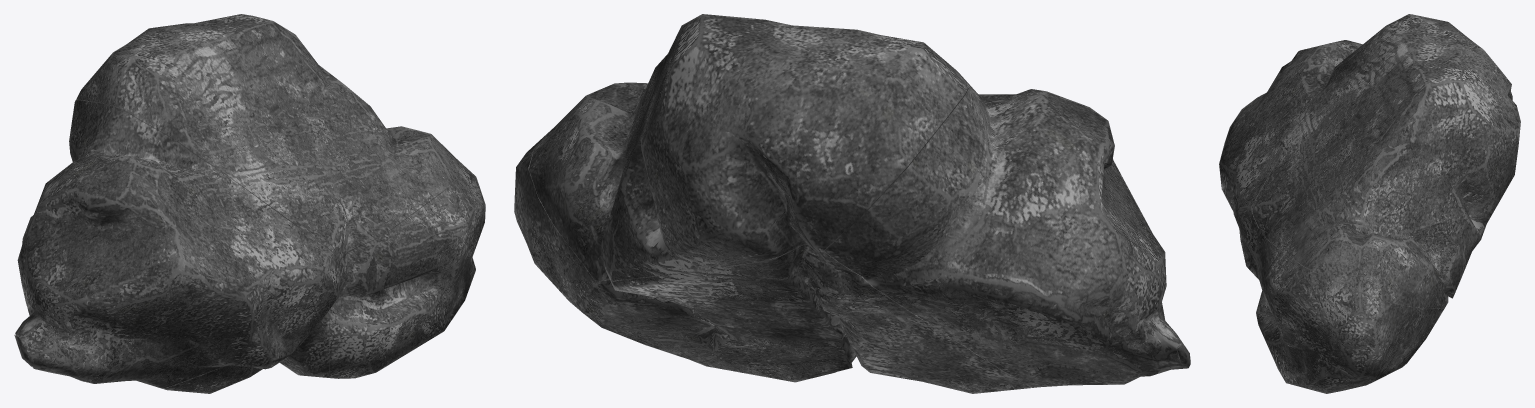
Rendered from StoneModel.fbx.
The picture shows the model from 3 angles, left to right: view 1: azimuth 30°, elevation 25°; view 2: azimuth 150°, elevation 25°; view 3: azimuth 270°, elevation 25°; orthographic projection. The views are drawn at different scales.
Parts seen in each view (by area): view 1: defaultMaterial_cell.024, defaultMaterial_cell.023, defaultMaterial_cell.027, defaultMaterial_cell.021; view 2: defaultMaterial_cell.023, defaultMaterial_cell.024, defaultMaterial_cell.021, defaultMaterial_cell.027; view 3: defaultMaterial_cell.023, defaultMaterial_cell.027, defaultMaterial_cell.024.
Boxes of the visible parts, left/top/right/bottom form: defaultMaterial_cell.024: left=15, top=100, right=339, bottom=388; defaultMaterial_cell.023: left=76, top=14, right=460, bottom=260; defaultMaterial_cell.027: left=329, top=162, right=485, bottom=378; defaultMaterial_cell.021: left=161, top=300, right=330, bottom=393; defaultMaterial_cell.023: left=529, top=14, right=967, bottom=280; defaultMaterial_cell.024: left=824, top=82, right=1189, bottom=387; defaultMaterial_cell.021: left=595, top=244, right=1031, bottom=393; defaultMaterial_cell.027: left=514, top=133, right=770, bottom=377; defaultMaterial_cell.023: left=1251, top=14, right=1520, bottom=308; defaultMaterial_cell.027: left=1248, top=228, right=1442, bottom=393; defaultMaterial_cell.024: left=1219, top=40, right=1362, bottom=268.
Bounding box in the file's own units: 200 × 128 × 120.
1 material, 1 textured.
